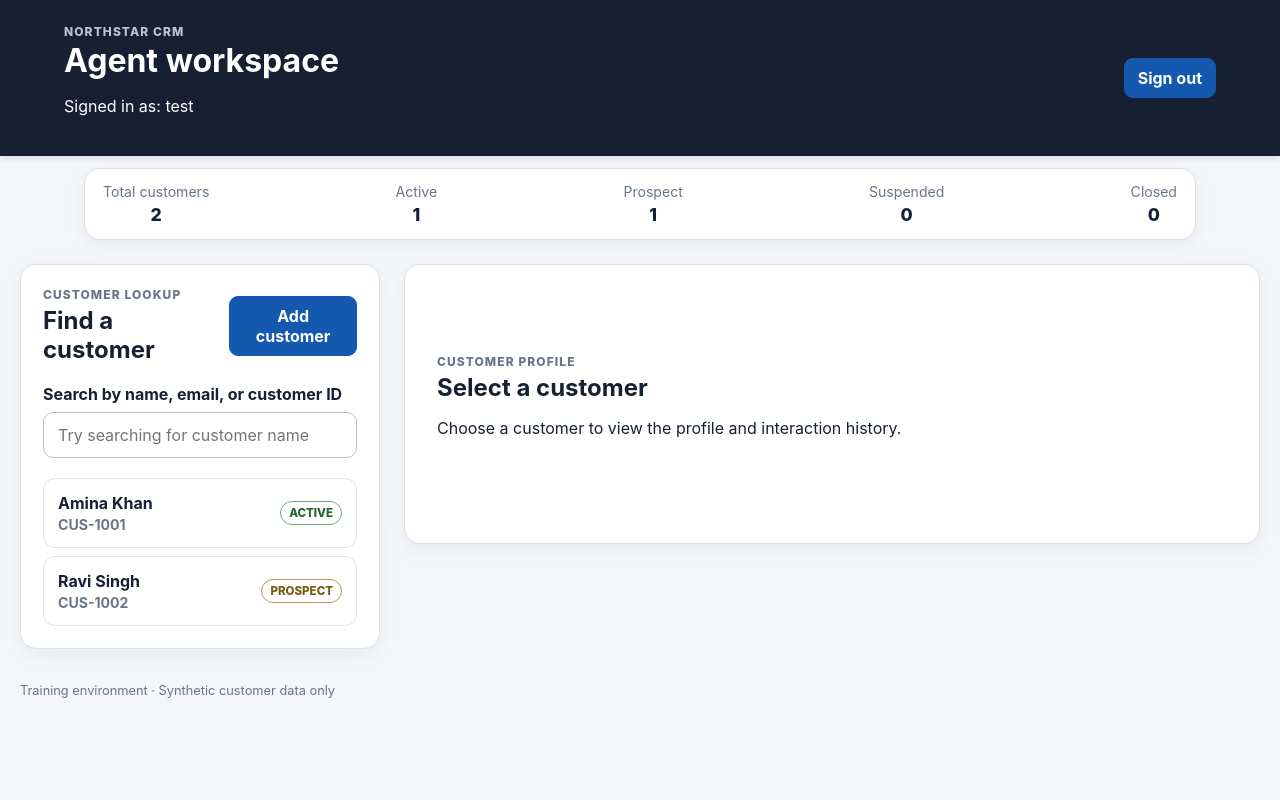
Test case: App › adds an interaction
Click the button "Amina Khan CUS-1001 Active": click(105, 503) [43,478,357,548]
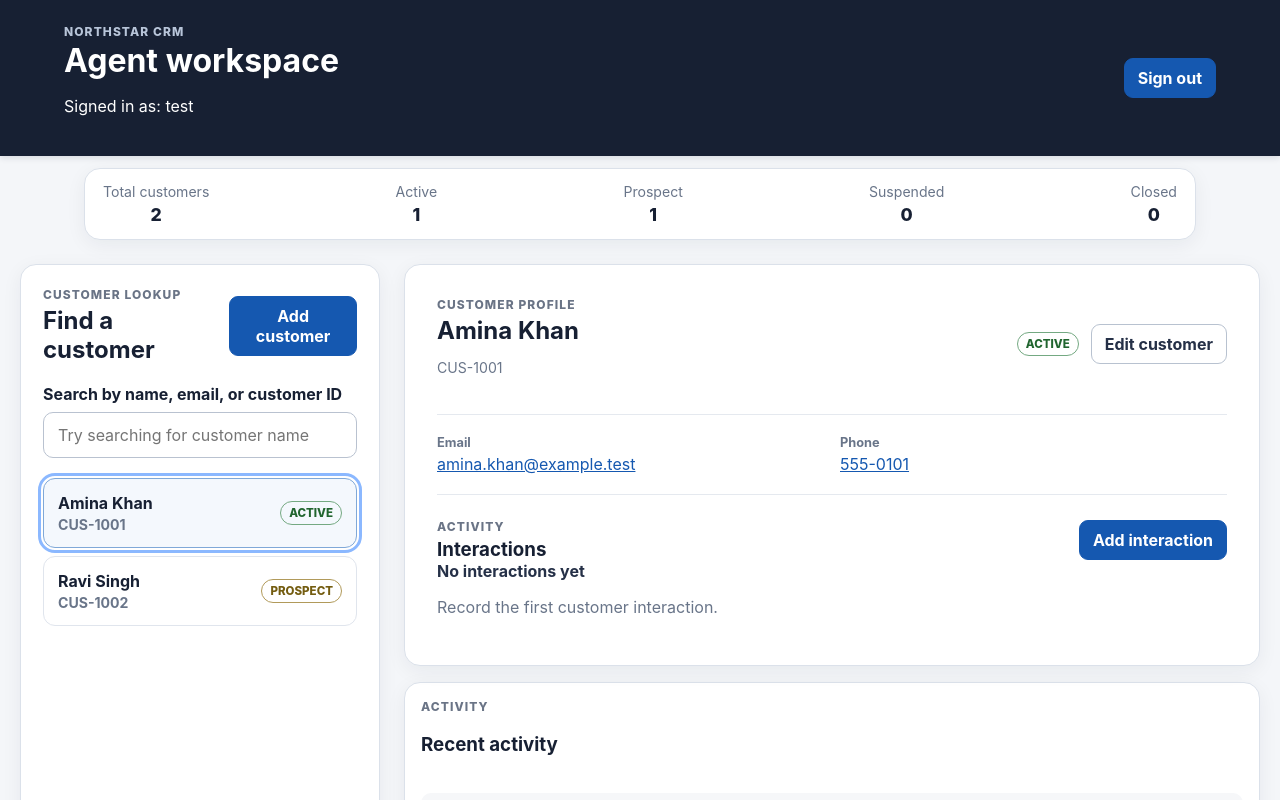
Click the button "Add interaction": click(1153, 540) [1079,520,1227,560]
(page scrolled)
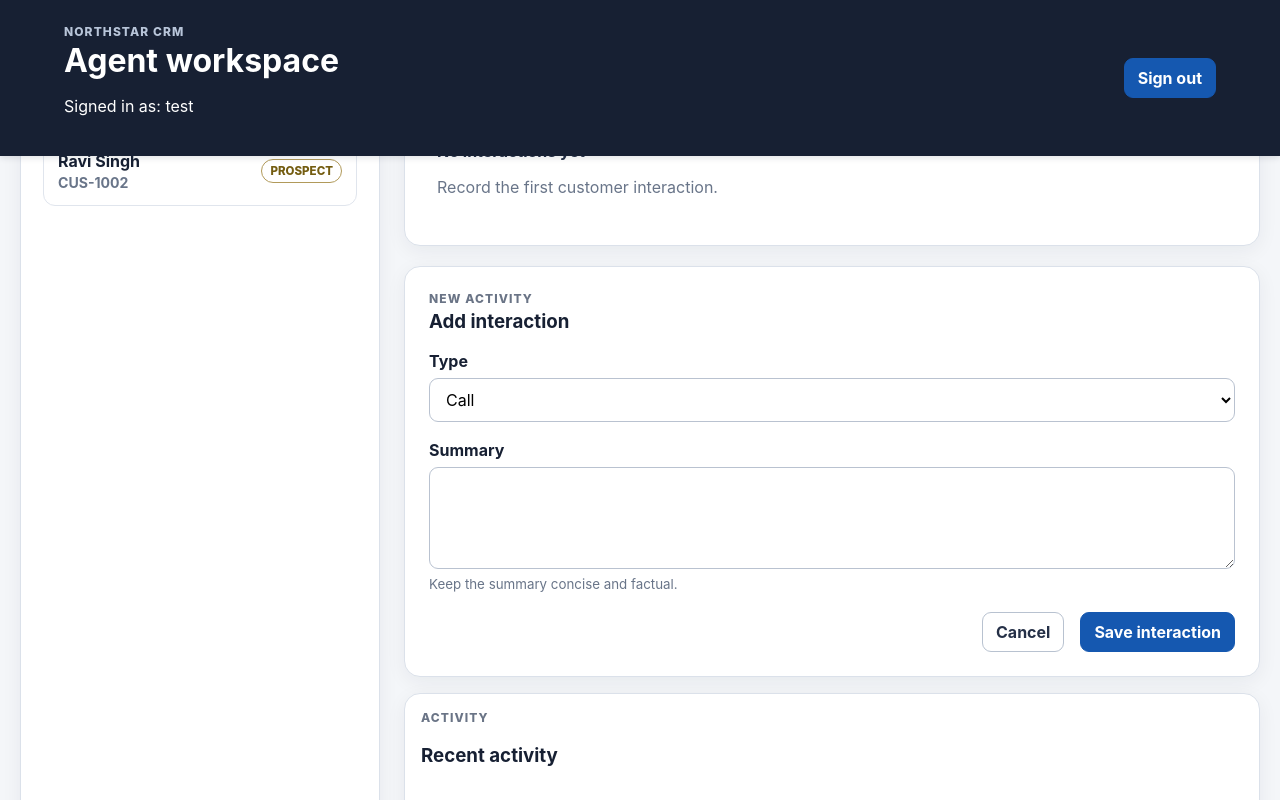
Select "Call" in the dropdown labelled "Type": (832, 400) [429,378,1235,422]
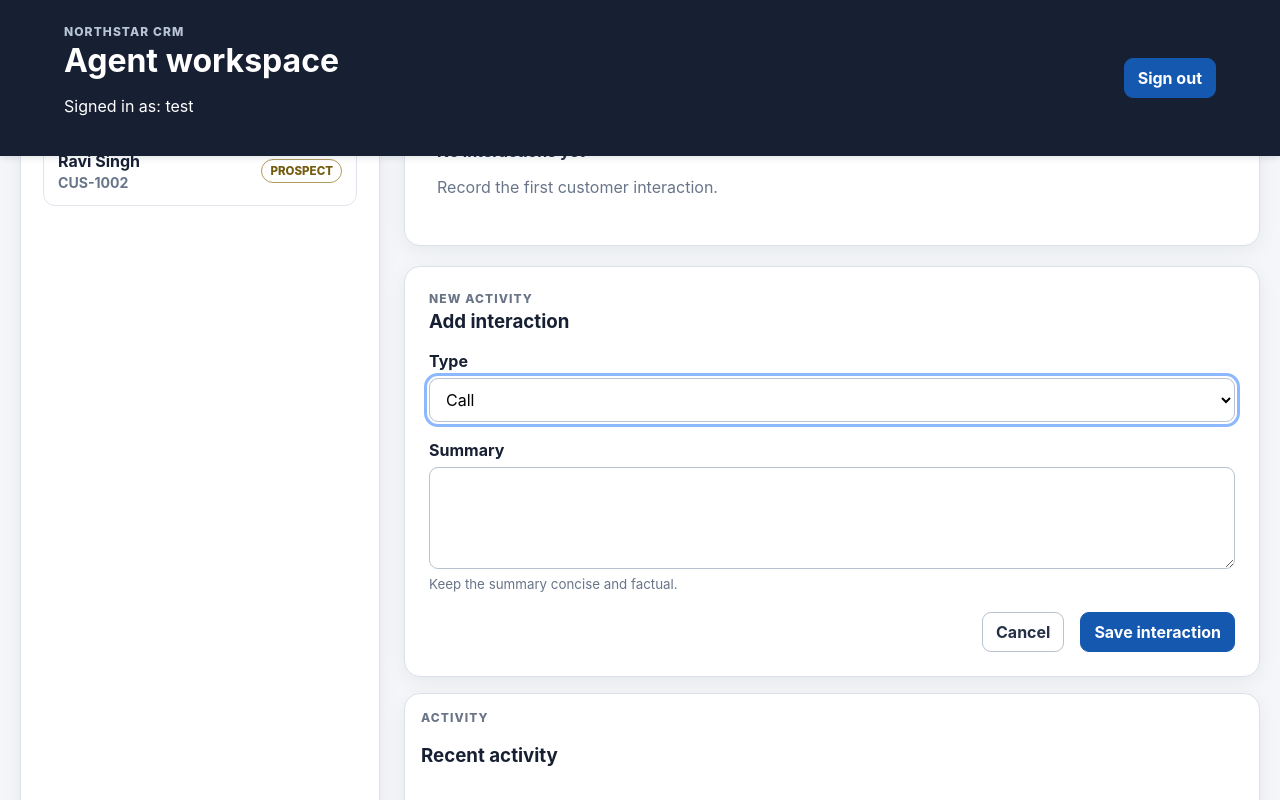
In the text box labelled "Summary": (832, 518) [429,467,1235,569], type "Discussed account requirements."
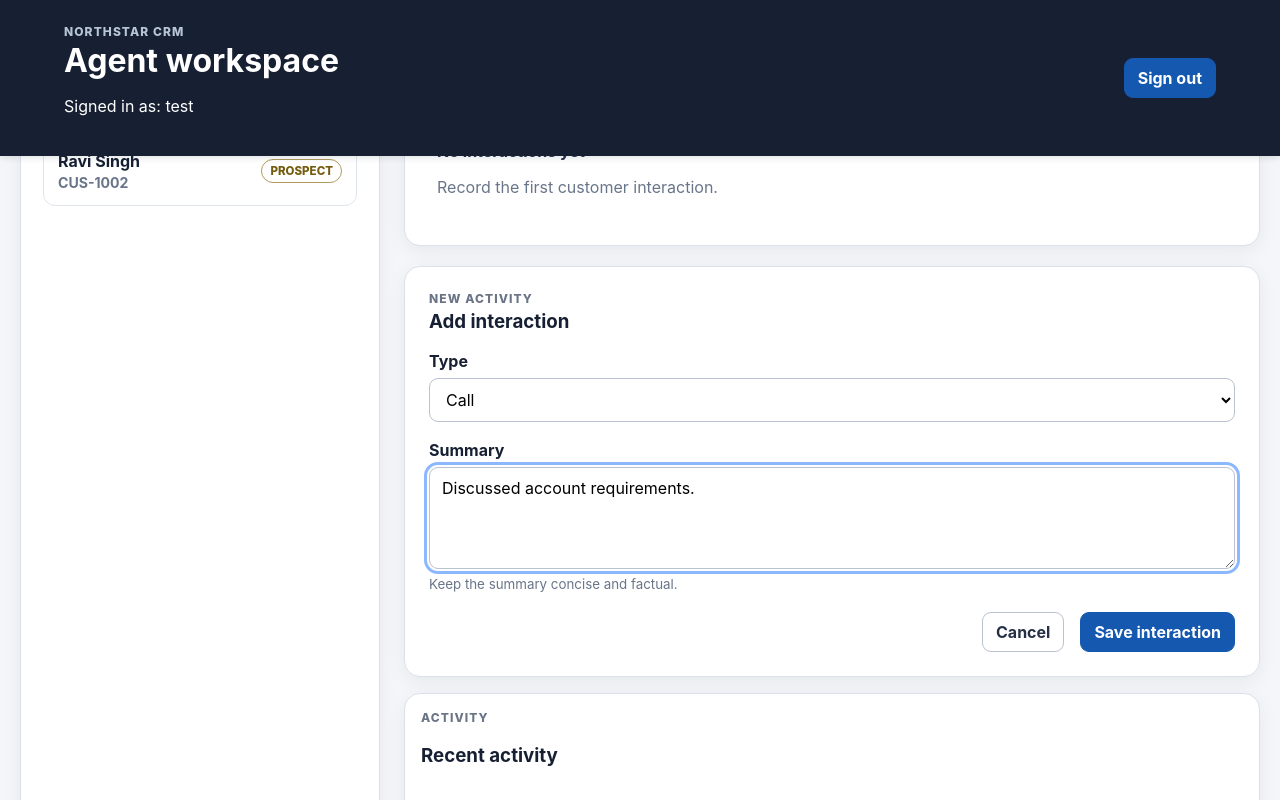
Click the button "Save interaction": click(1158, 632) [1080,612,1235,652]
(page scrolled)
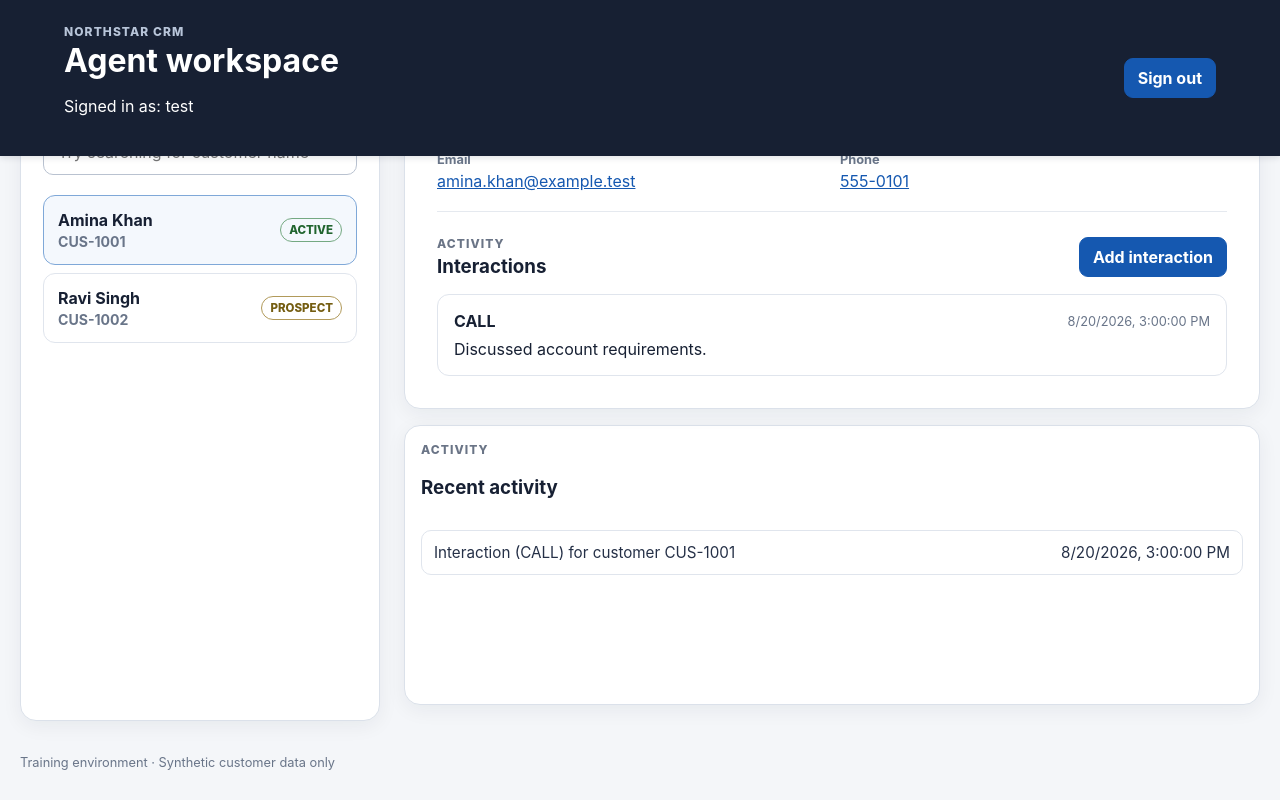
Now the text "Discussed account requirements." is shown, box [454,339,707,359]
